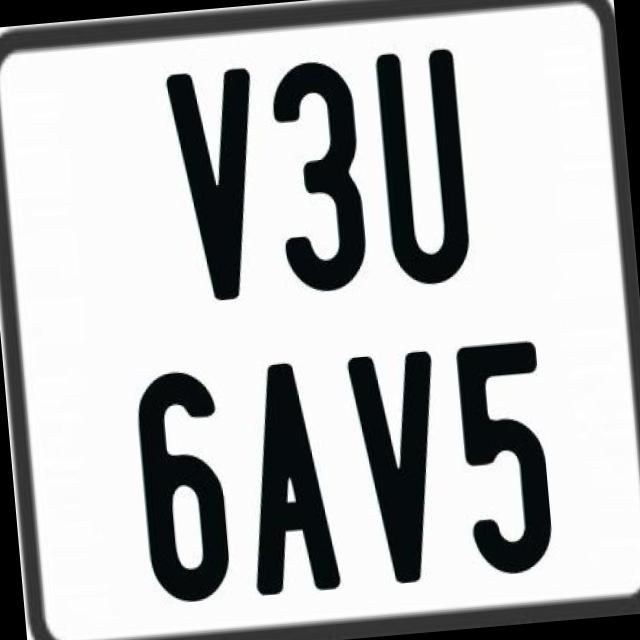3: (265, 56, 370, 300)
5: (450, 335, 555, 581)
6: (132, 365, 232, 609)
A: (234, 355, 341, 594)
U: (373, 48, 477, 286)
V: (166, 63, 276, 300), (343, 349, 449, 593)
